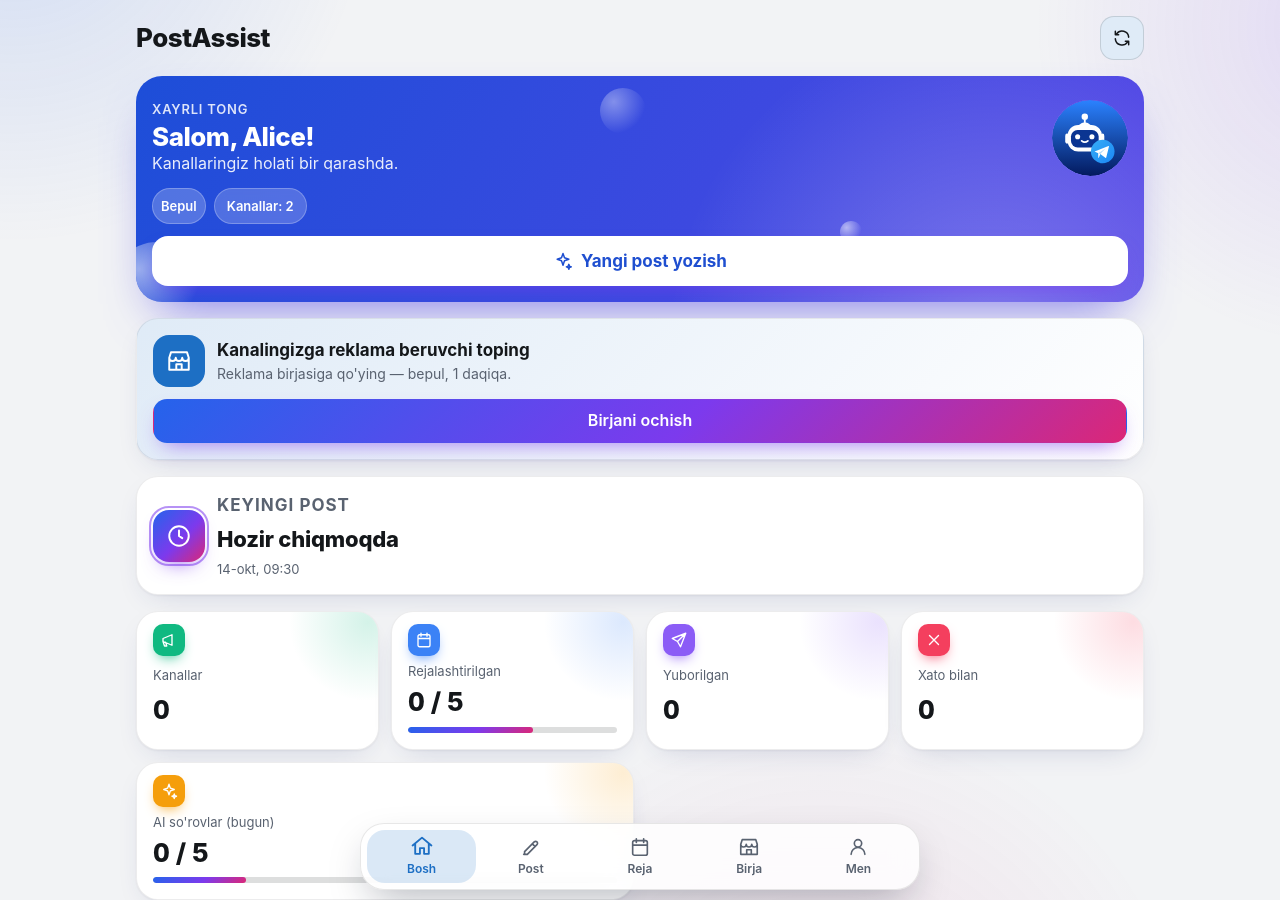
Test: Post yaratish › rejalashtirish: to'g'ri JSON, sarlavhalar, muvaffaqiyat xabari va Reja bo'limiga o'tish
Expected: the heading "Salom, Alice!" is shown, [152, 121, 314, 152]
Click the button "Post": x=531, y=856 [476, 830, 585, 883]
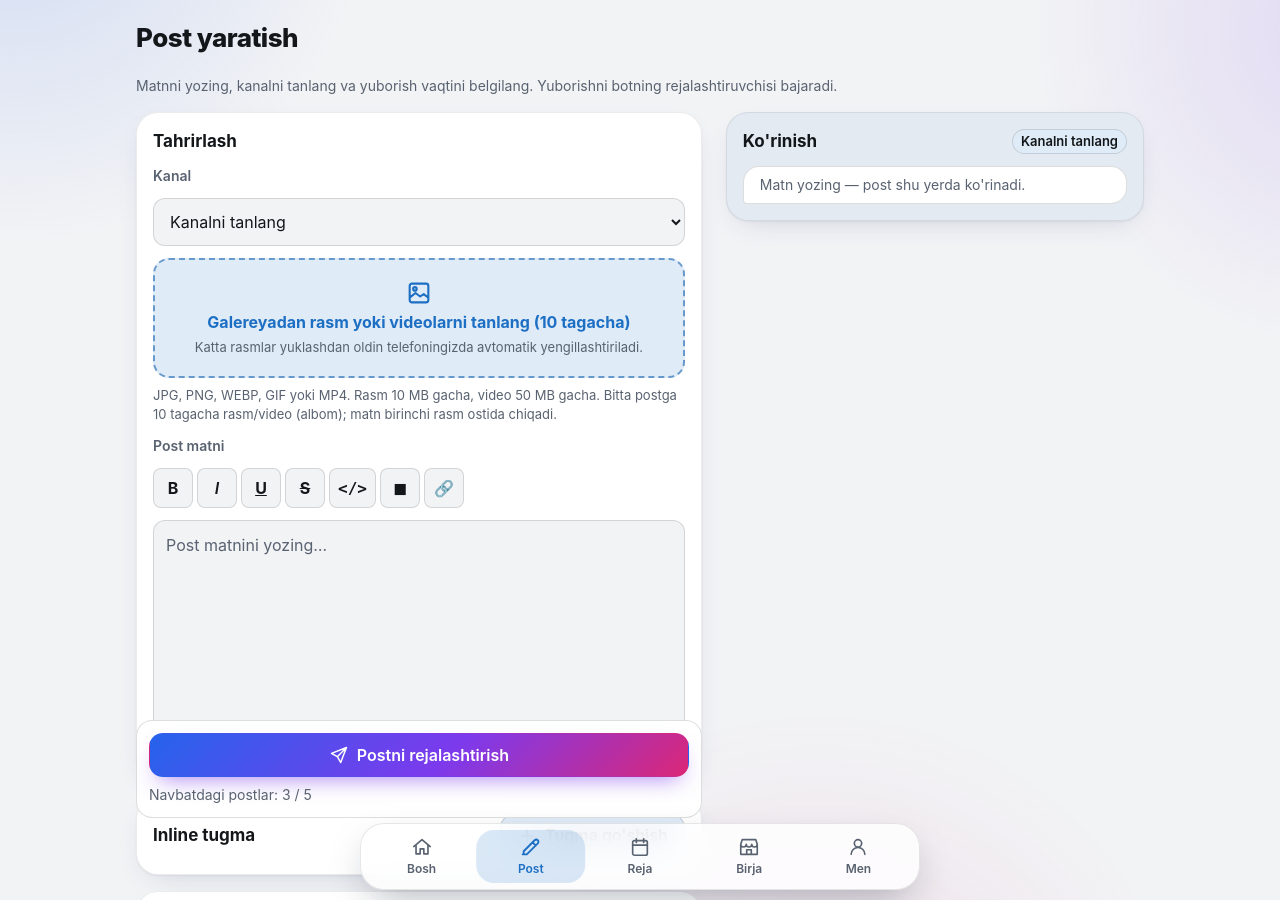
Select "Kanal B" in the dropdown labelled "Kanal": x=419, y=222 [153, 198, 685, 246]
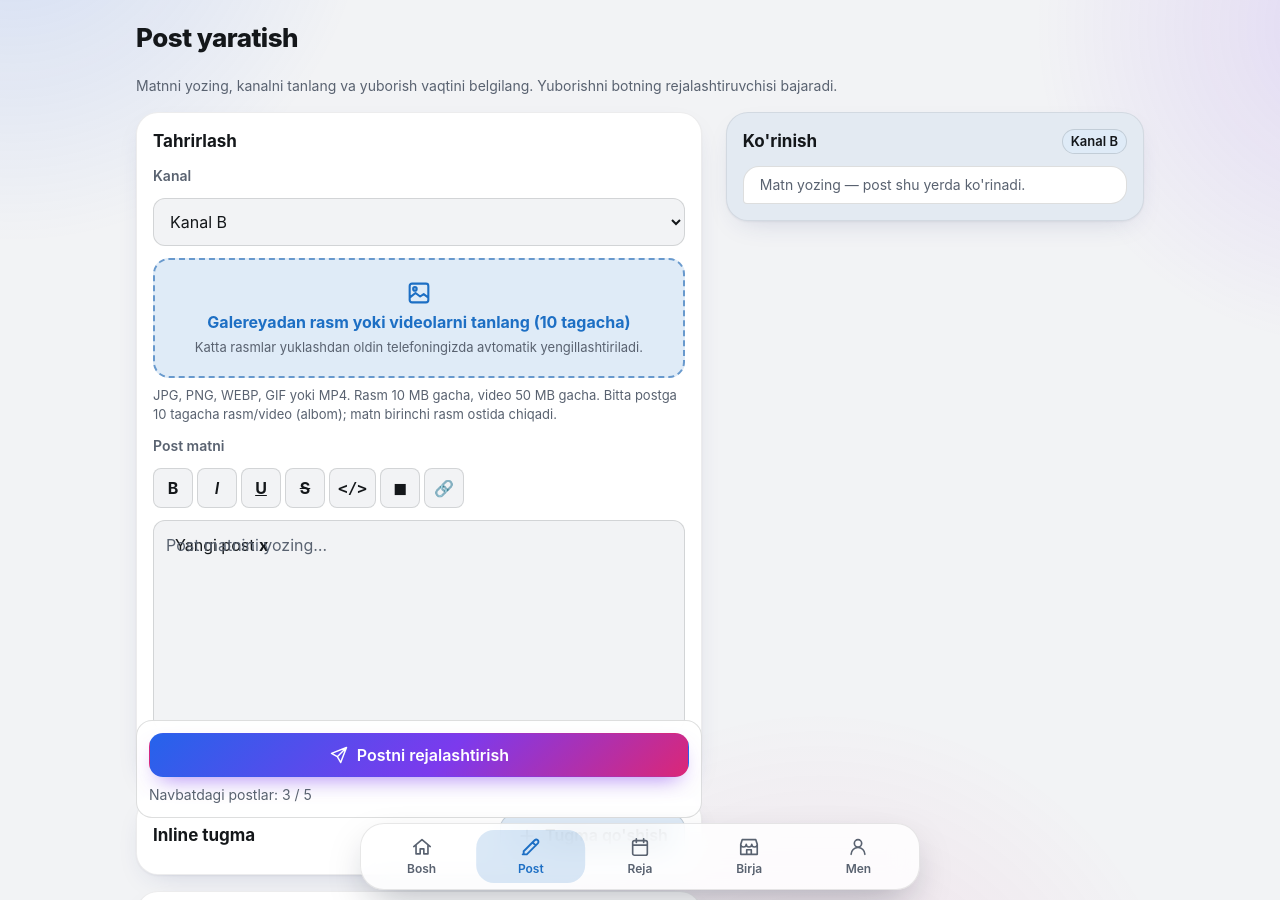
Clear the field named "Post matni": x=419, y=626 [153, 520, 685, 731]
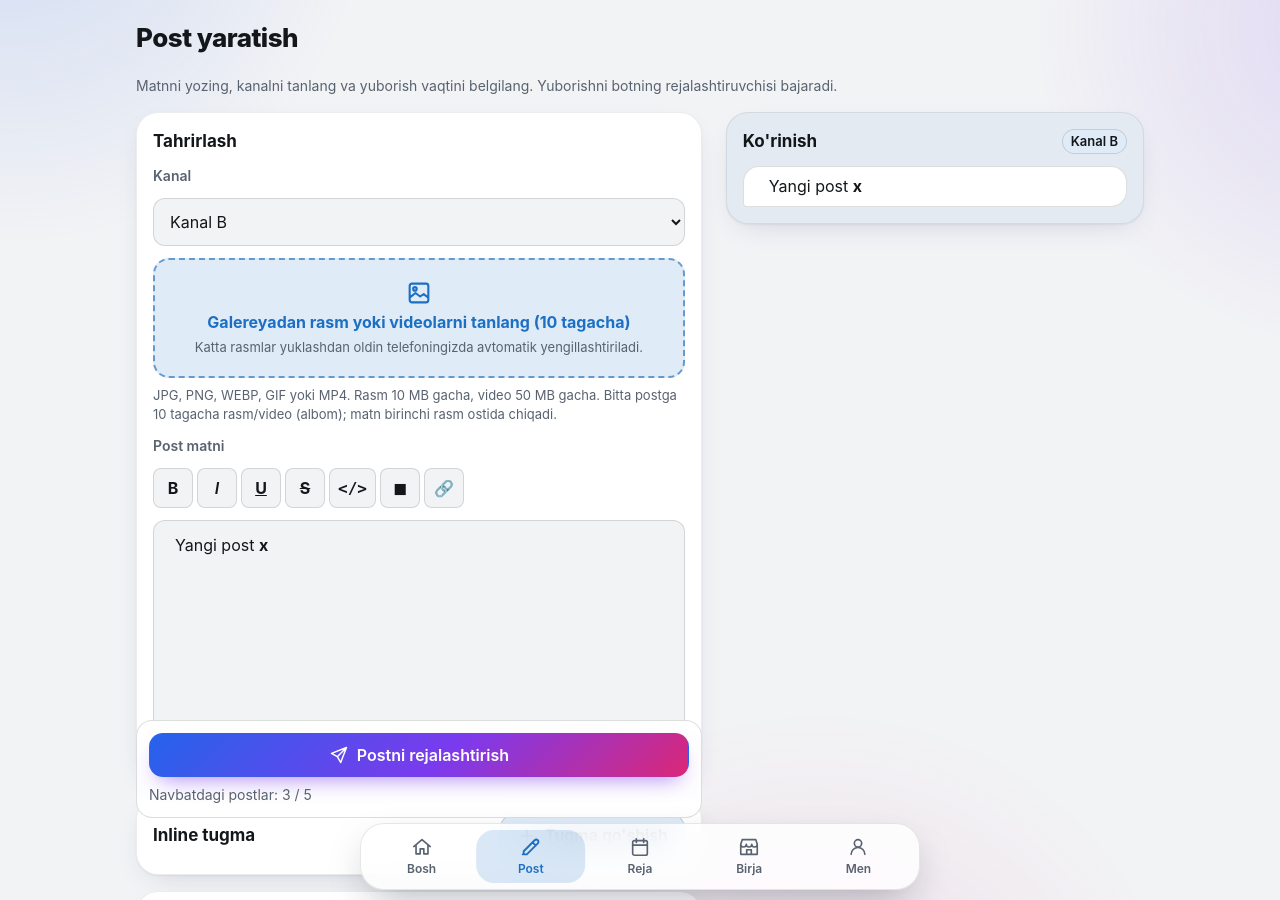
Click the button "Postni rejalashtirish": x=419, y=755 [149, 733, 689, 777]
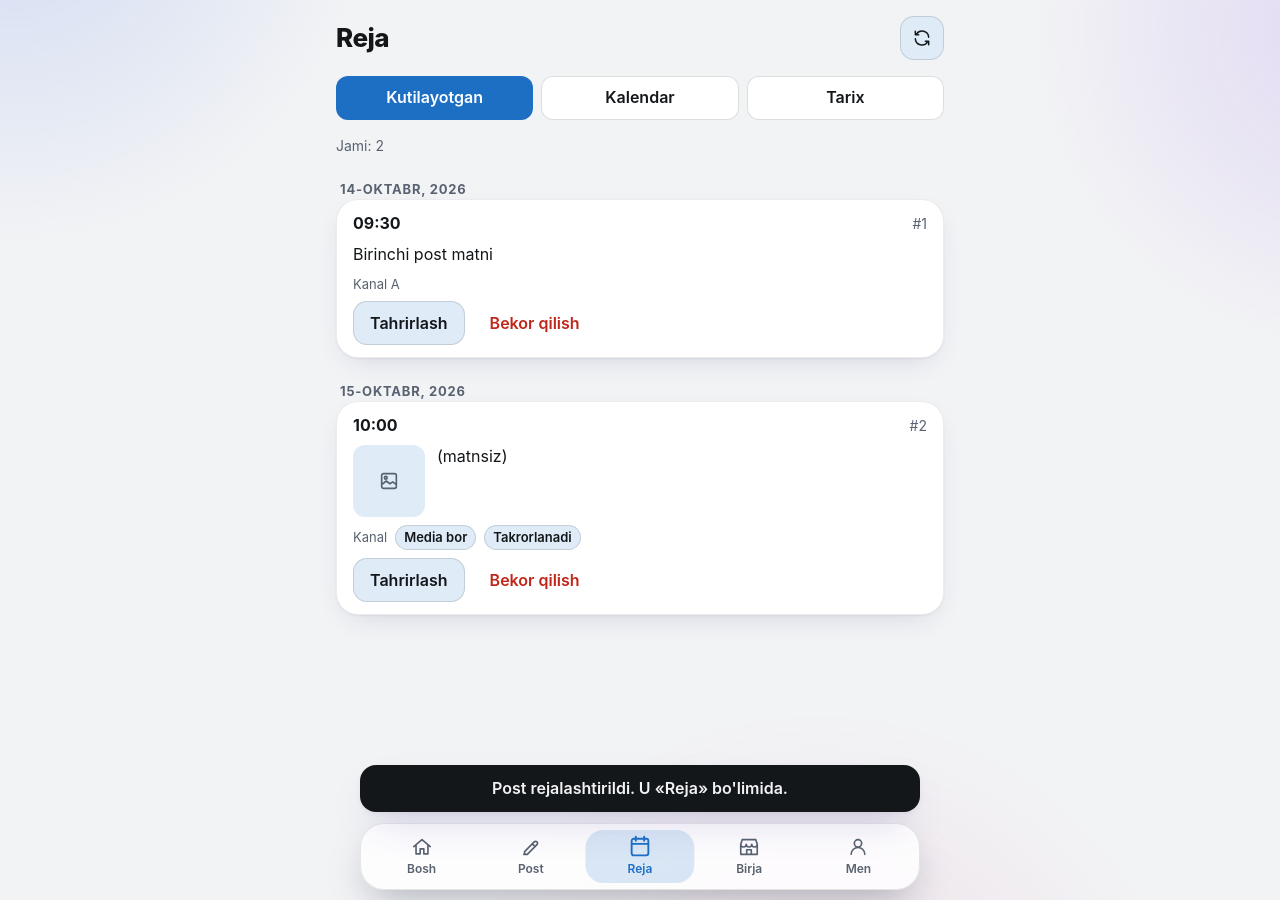
Result: the text "Post rejalashtirildi. U «Reja» bo'limida." is shown at [360, 765, 920, 812]
Result: the heading "Reja" is shown at [336, 22, 389, 54]
